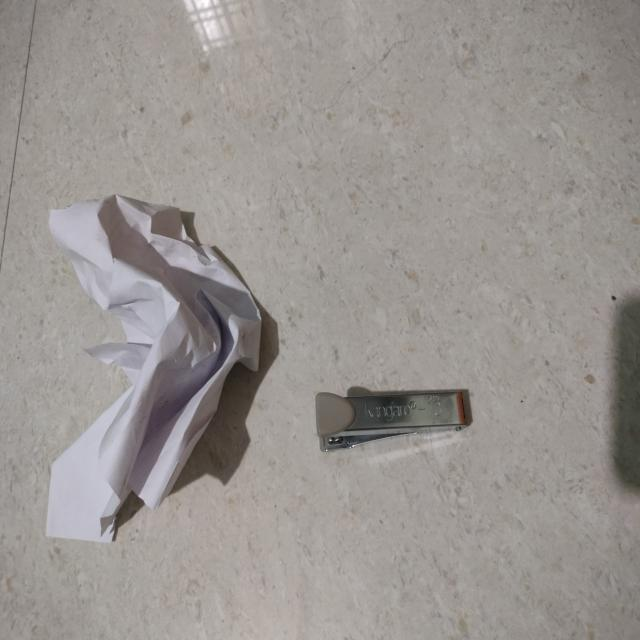metal: (304, 371, 511, 499)
paper: (34, 165, 276, 559)
